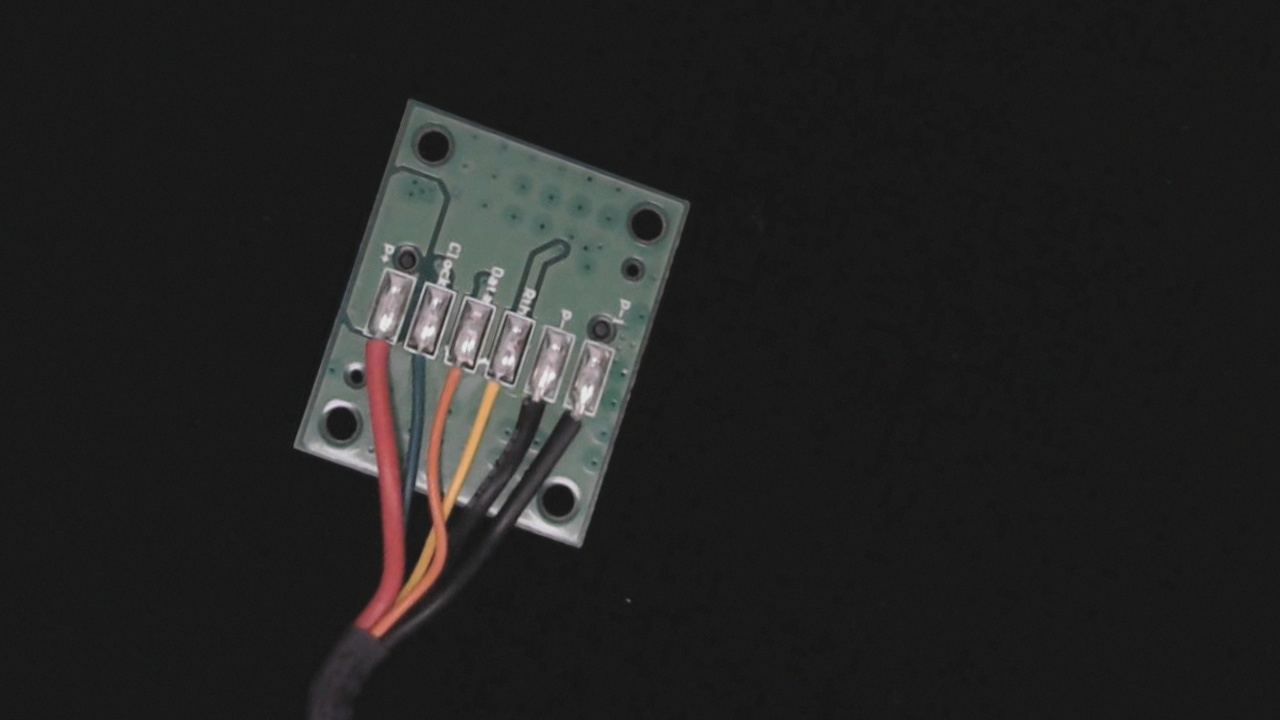Black: (509, 372, 563, 445)
Black1: (549, 387, 602, 461)
Green: (388, 328, 443, 401)
Orange: (425, 343, 482, 425)
Red: (348, 312, 405, 395)
Yellow: (468, 360, 522, 437)
